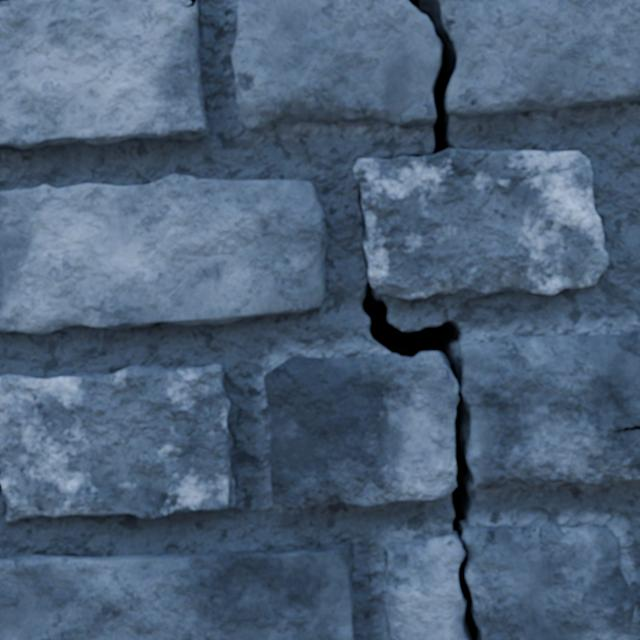broken_brick: (264, 351, 458, 508), (381, 525, 634, 639), (459, 330, 639, 485), (231, 0, 439, 132), (439, 0, 639, 117)
crack: (354, 0, 608, 539), (0, 174, 327, 334), (0, 364, 235, 522), (0, 543, 354, 639), (0, 0, 208, 149), (457, 541, 482, 639), (613, 426, 639, 432), (393, 636, 400, 639)
